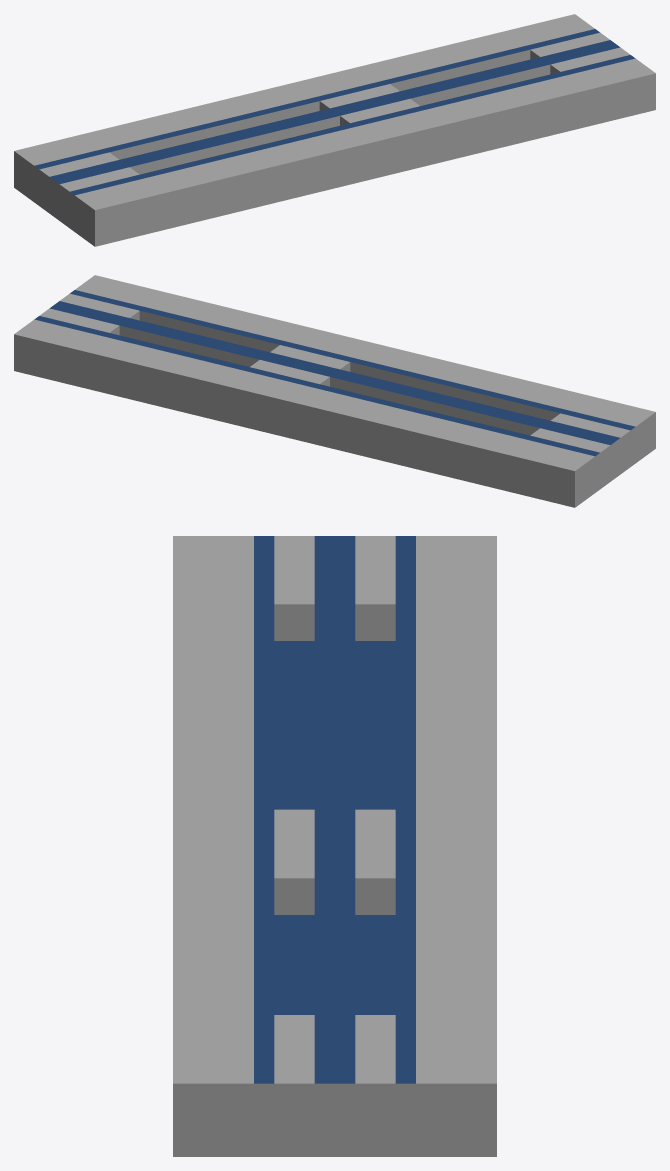
File: Floor_06.fbx
3 renders of one model, top to bottom at view 1: azimuth 30°, elevation 25°; view 2: azimuth 150°, elevation 25°; view 3: azimuth 270°, elevation 25°, orthographic. The views are drawn at different scales.
Parts seen in each view (by area): view 1: Cube.002; view 2: Cube.002; view 3: Cube.002.
Part boxes in pixels (x1,y1,x2,y2): Cube.002: [14, 14, 655, 246]; Cube.002: [14, 275, 655, 507]; Cube.002: [173, 536, 496, 1156].
Size of the model in its own units: 400 by 25 by 100.
